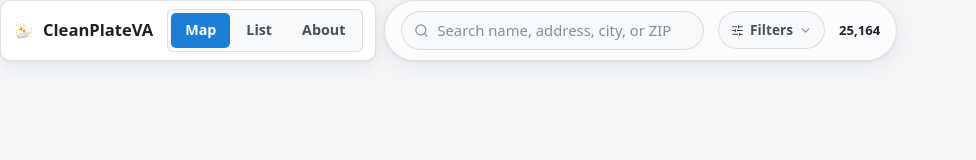
Test: the basic map hides the judgment controls and keeps the rest (P6)
The width and height of the screenshot is (976, 160).
Expected: the search field with placeholder "Search name, address, city, or ZIP" is shown, [437,20,691,41]
Click the button "Filters" at [772, 30], box [718,11,825,49]
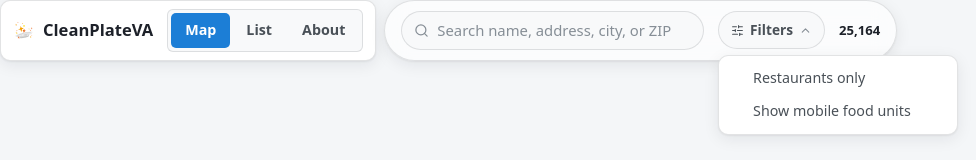
Now the checkbox labelled "Restaurants only" is shown, box [753,68,865,87]
Now the checkbox labelled "Show mobile food units" is shown, box [753,101,911,120]
